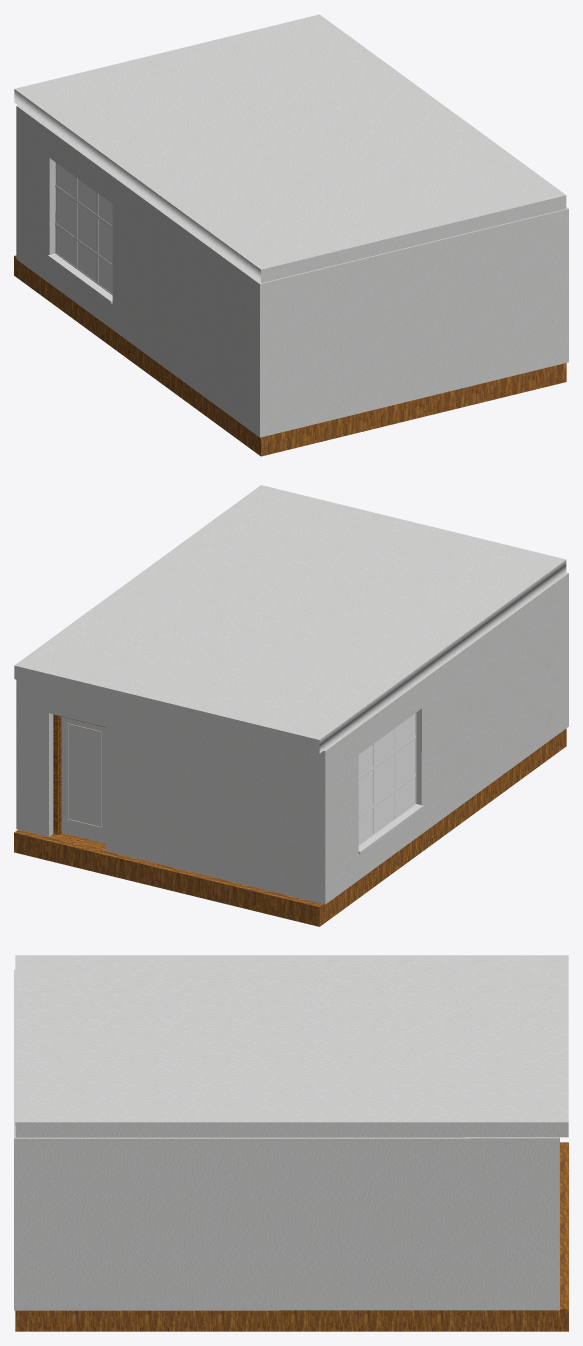
Rendered from FloorPlan205_physics.fbx.
3 views of the same model, one above another, from view 1: azimuth 30°, elevation 25°; view 2: azimuth 150°, elevation 25°; view 3: azimuth 270°, elevation 25° (orthographic). The views are drawn at different scales.
Parts seen in each view (by area): view 1: FP205:Ceiling, FP205:Room.009, FP205:Floor, FP205:polySurface1, FP205:polySurface19; view 2: FP205:Ceiling, FP205:Room.009, FP205:Floor, FP205:Door.004, FP205:polySurface1, FP205:polySurface19, FP205:DoorFrame.002; view 3: FP205:Ceiling, FP205:Room.009, FP205:Floor.
Part boxes in pixels (bbox=[...]): FP205:Ceiling: bbox=[14, 14, 566, 283]; FP205:Room.009: bbox=[16, 105, 568, 437]; FP205:Floor: bbox=[14, 255, 566, 456]; FP205:polySurface1: bbox=[56, 163, 112, 292]; FP205:polySurface19: bbox=[47, 162, 112, 303]; FP205:Ceiling: bbox=[14, 485, 566, 753]; FP205:Room.009: bbox=[16, 572, 568, 904]; FP205:Floor: bbox=[14, 728, 566, 926]; FP205:Door.004: bbox=[61, 717, 105, 843]; FP205:polySurface1: bbox=[358, 714, 414, 843]; FP205:polySurface19: bbox=[358, 713, 423, 854]; FP205:DoorFrame.002: bbox=[53, 714, 104, 834]; FP205:Ceiling: bbox=[15, 955, 568, 1137]; FP205:Room.009: bbox=[14, 969, 559, 1310]; FP205:Floor: bbox=[15, 1142, 568, 1331].
Bounding box in the file's own units: 551 × 317 × 761.
